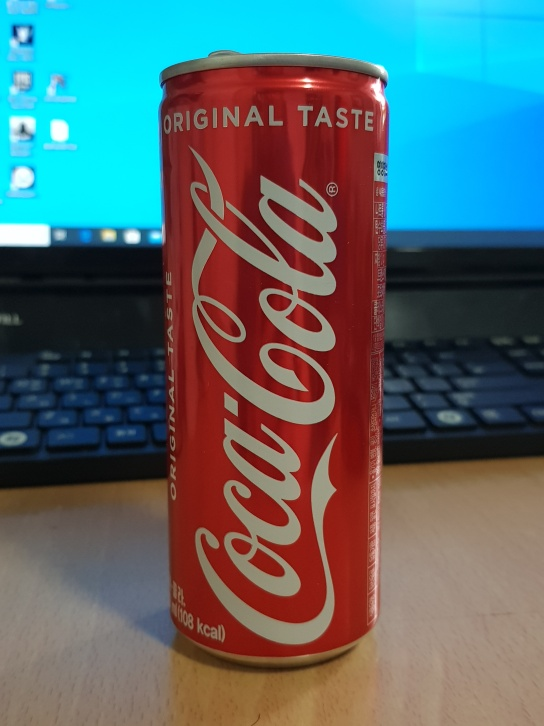Can: (155, 45, 392, 671)
